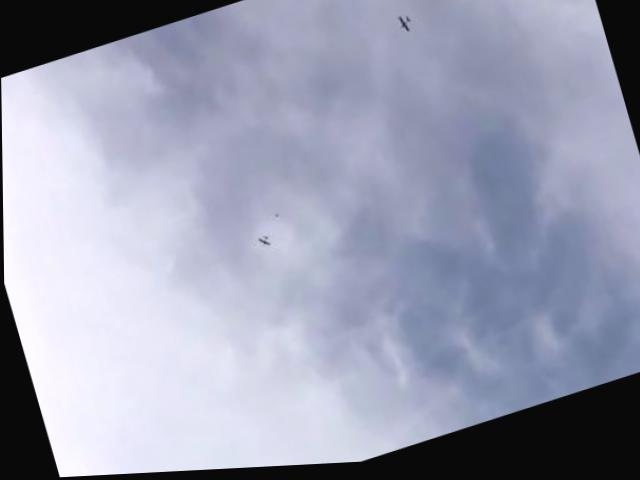uav: (394, 14, 417, 40), (254, 233, 274, 254)
